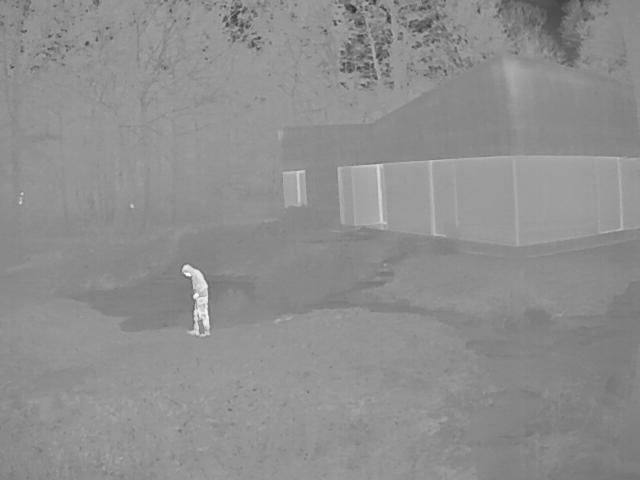person: (184, 264, 212, 338)
